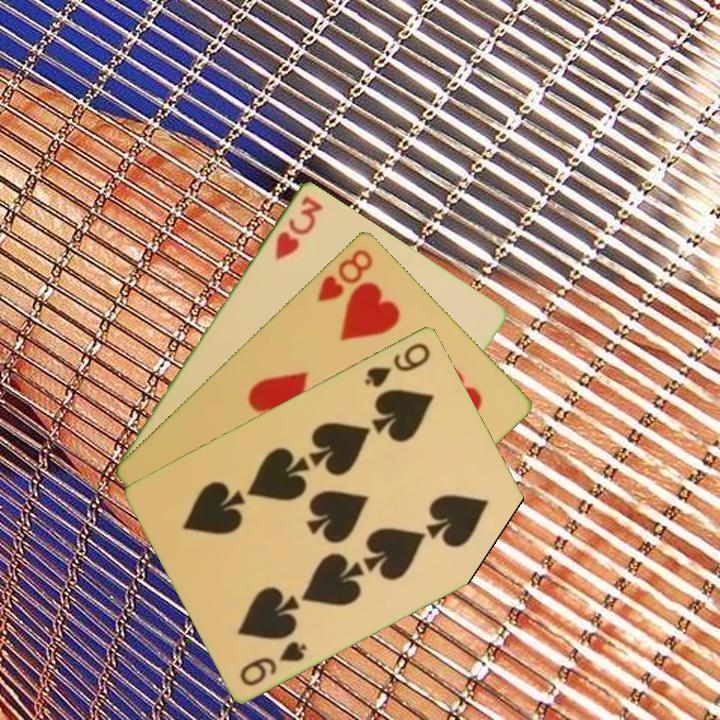3h: (271, 191, 326, 263)
8h: (313, 244, 376, 305)
9s: (236, 637, 310, 689), (361, 338, 434, 390)
